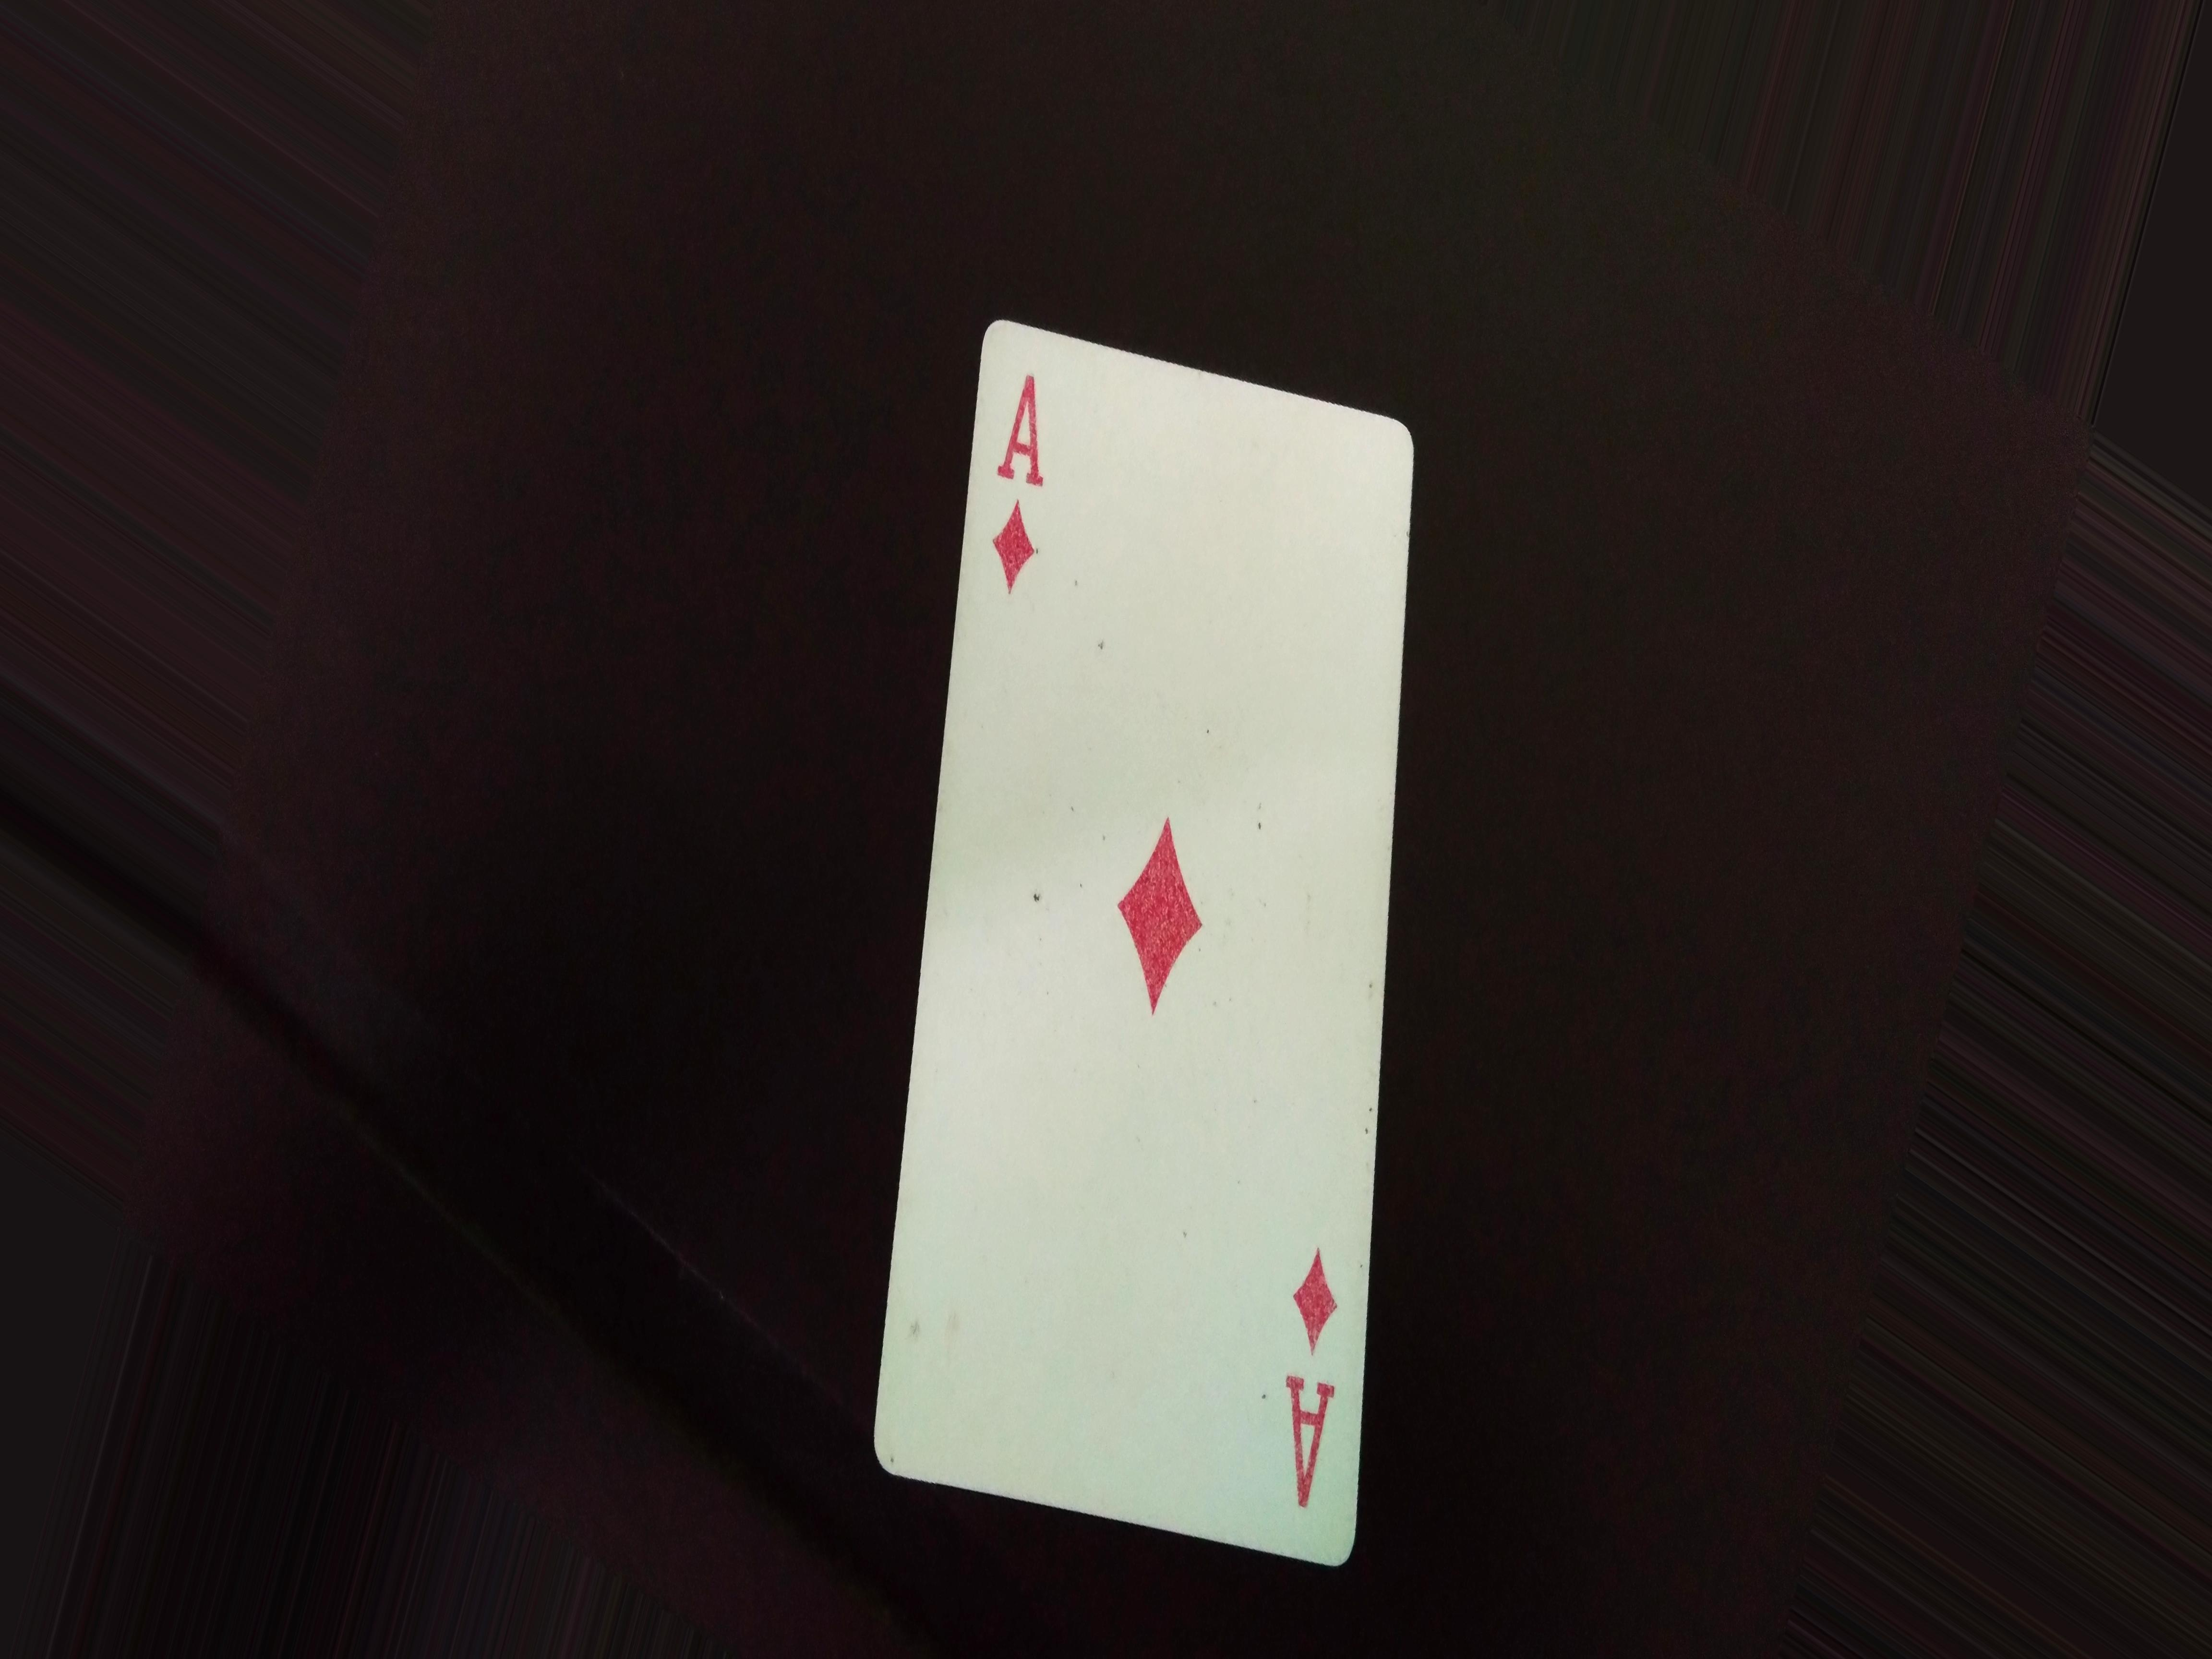AD: (988, 366, 1062, 620)
